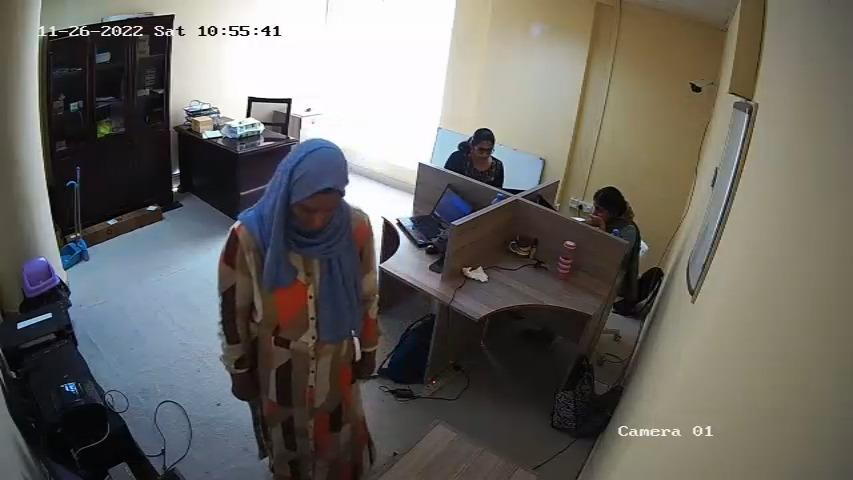no_apron: (250, 235, 357, 428)
